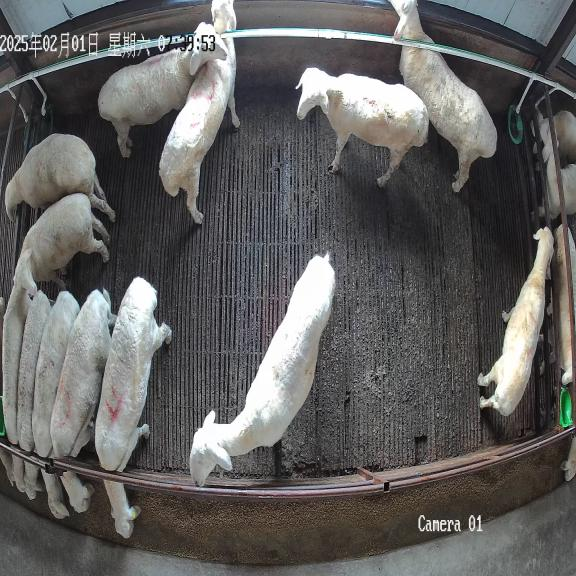eating: (95, 277, 171, 538), (50, 290, 116, 512), (32, 290, 80, 519), (16, 290, 50, 500), (2, 277, 31, 492)
stand: (189, 254, 335, 486), (388, 0, 497, 192), (159, 0, 240, 224), (98, 23, 225, 157), (297, 68, 429, 185), (477, 227, 553, 416), (14, 193, 109, 297), (5, 134, 115, 221)
